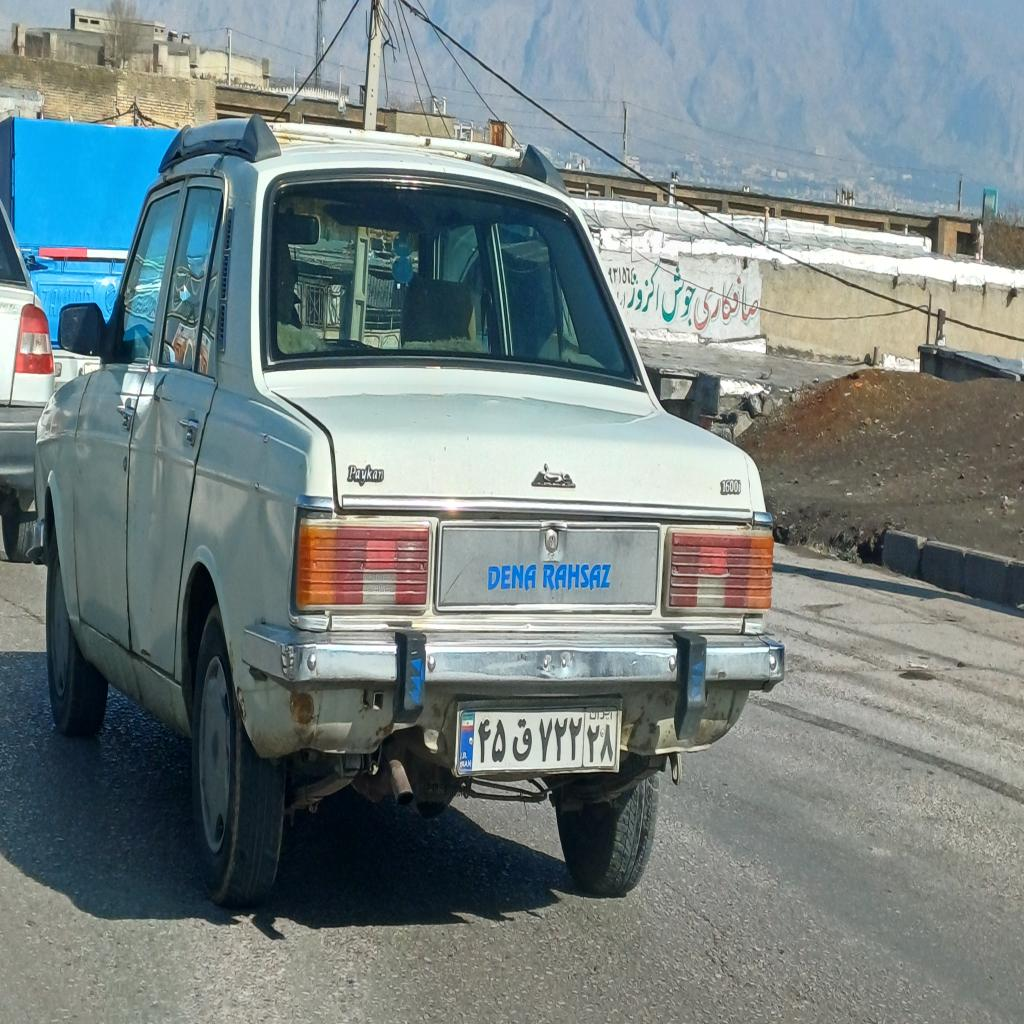Plates: (458, 706, 618, 776)
